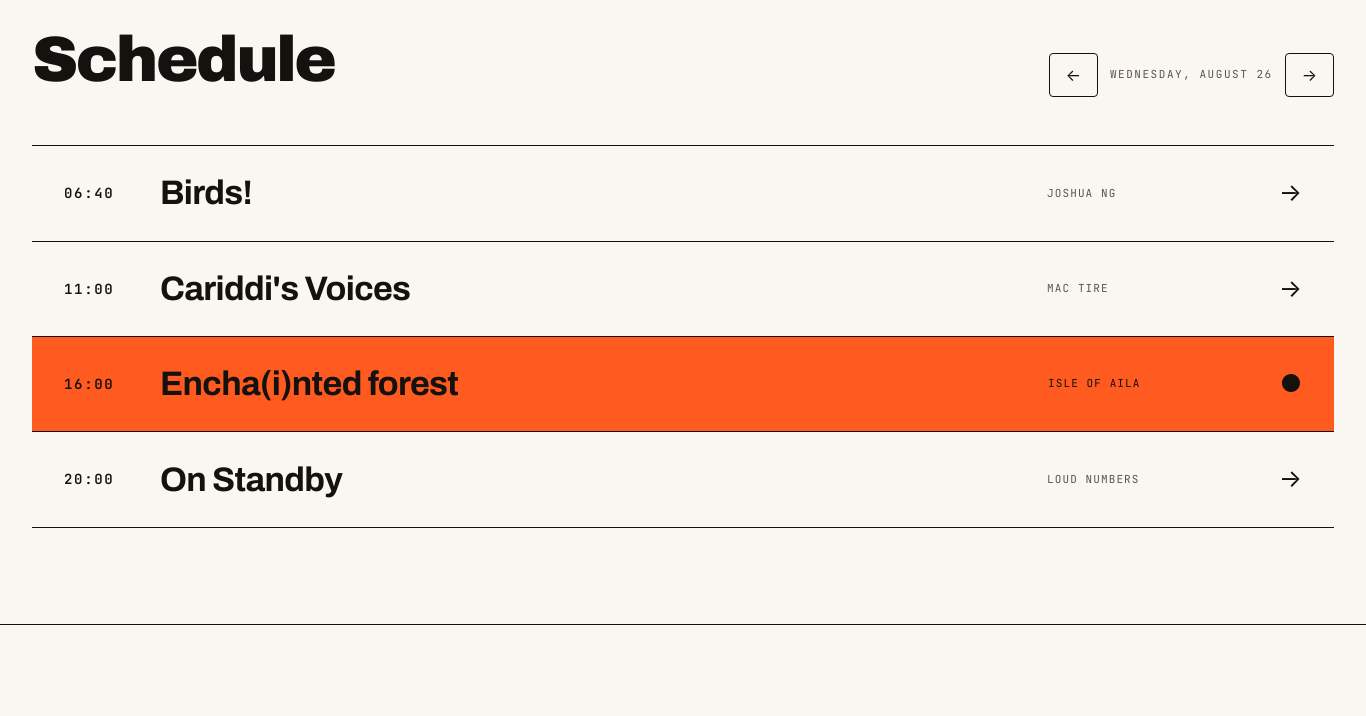
Home › Schedule Item Expansion › expands schedule item when clicked directly
(page scrolled)
Click the text "Encha(i)nted forest" at [309, 384], box [160,365,458,402]
(page scrolled)
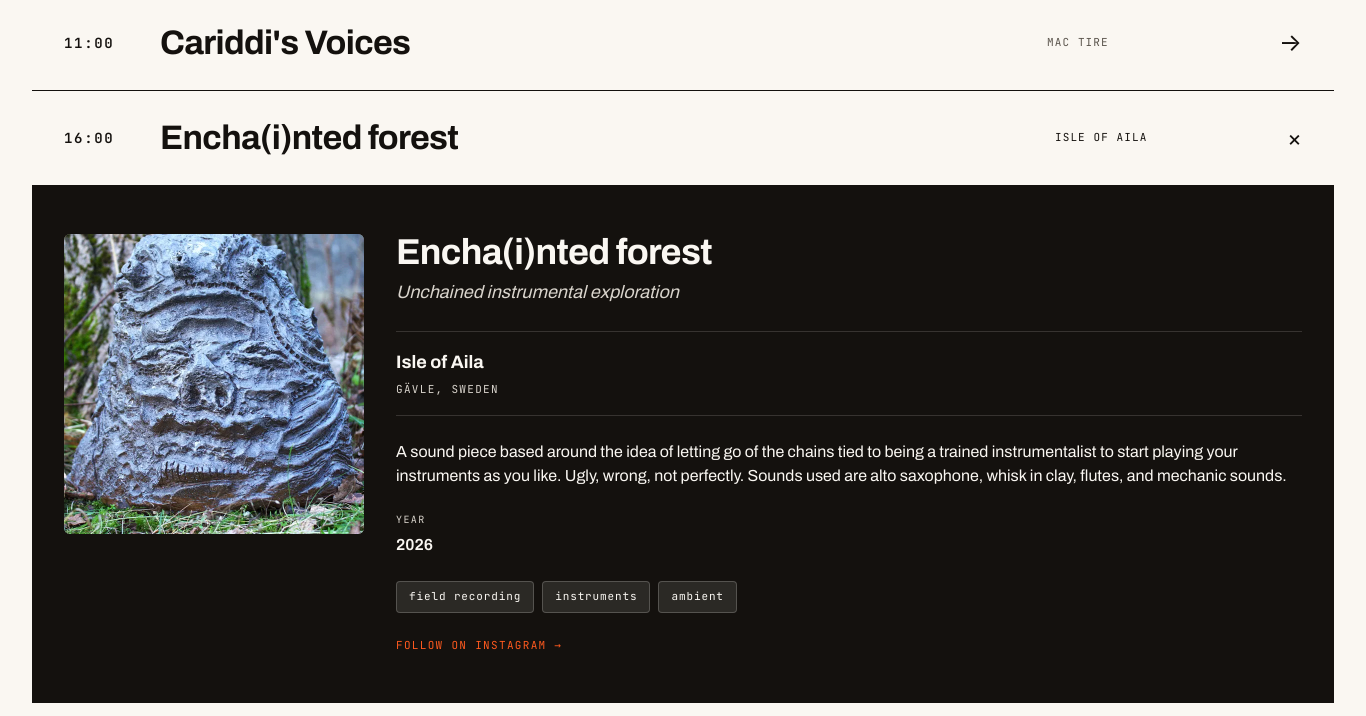
Expected: the picture with alt text "Encha(i)nted forest" is shown, [64,234,364,534]
